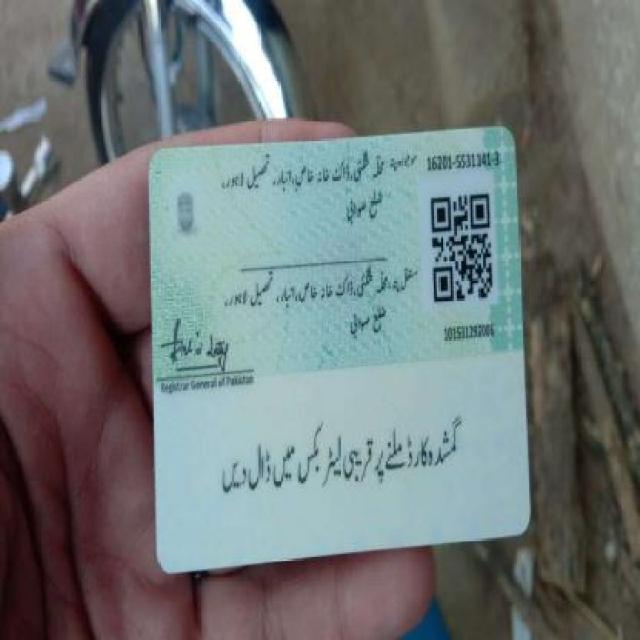Back: (146, 121, 534, 554)
